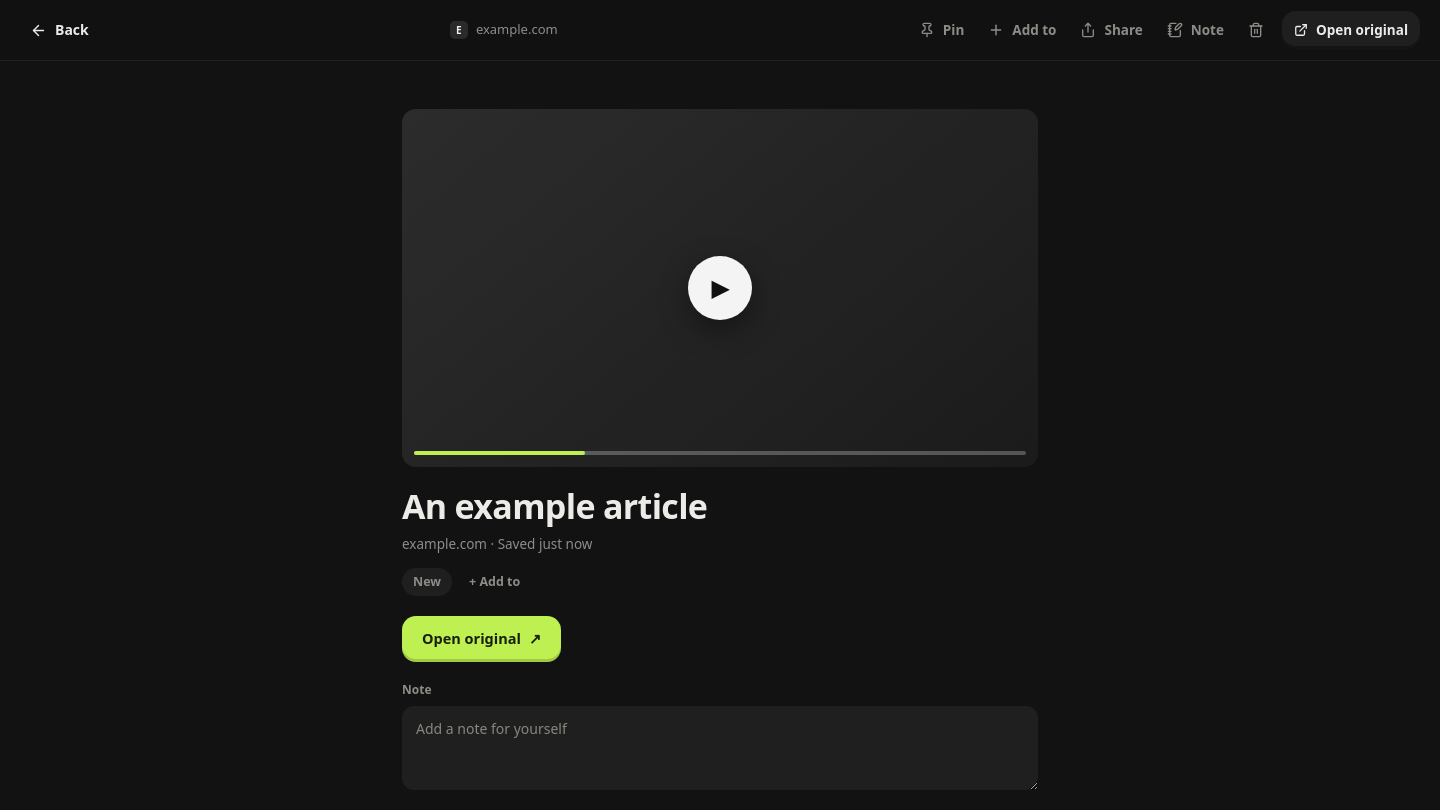
Scenario: the link page's bar › pins the link
This screenshot has width=1440, height=810.
Step 1. Click the button "Pin" → click(942, 30), box [909, 11, 974, 49]
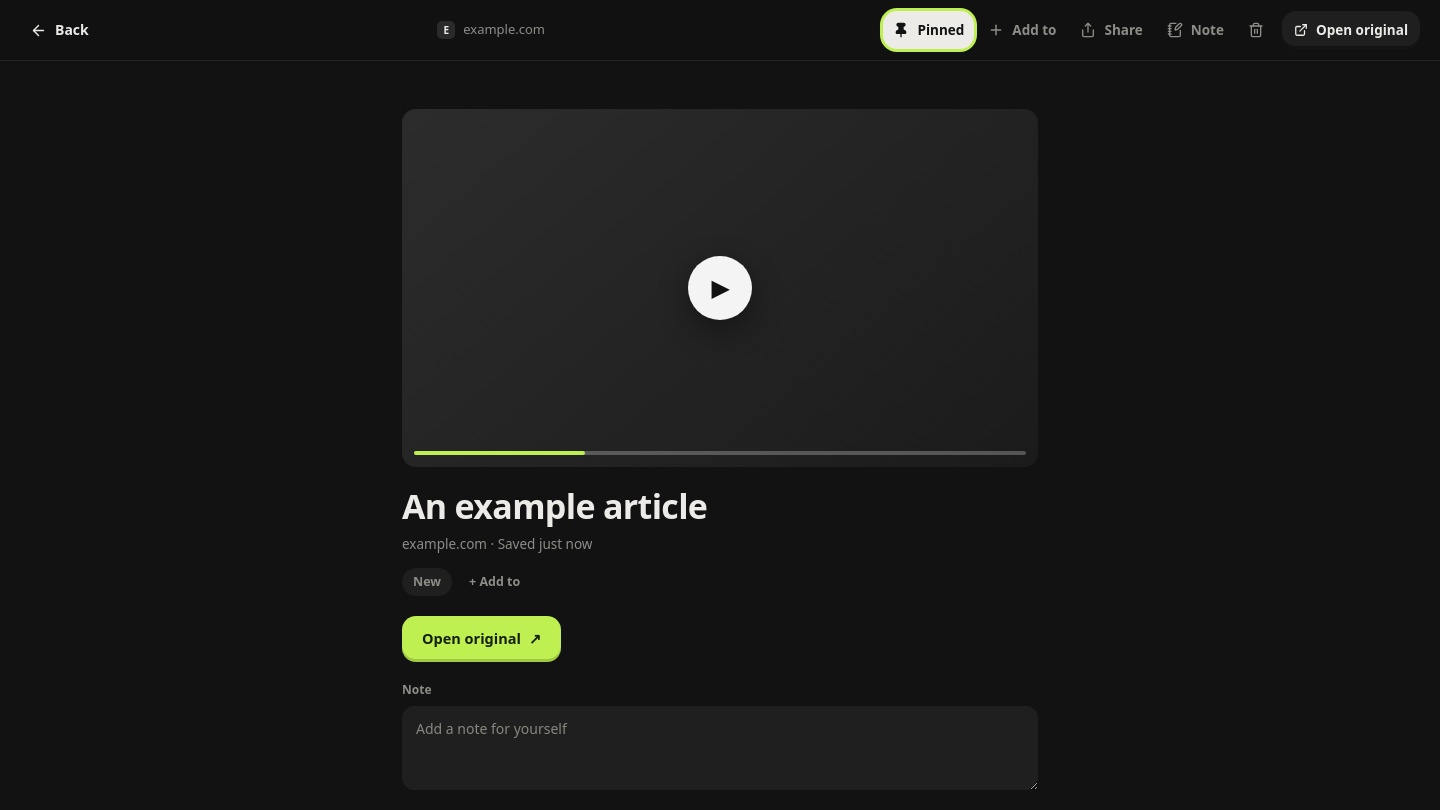
Now the button "Pinned" is shown, box [884, 11, 974, 49]
